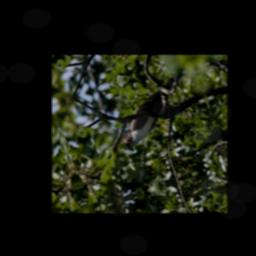Cuckoo: (107, 65, 204, 155)
